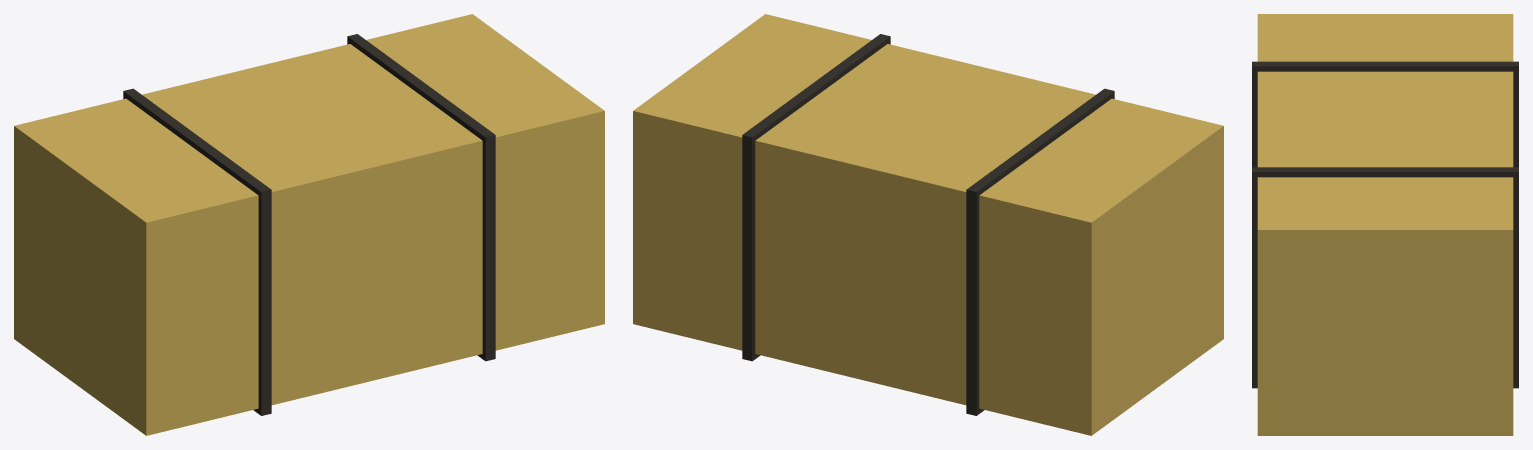
The model's file is hay bale.glb.
3 views of the same model, side by side, from view 1: azimuth 30°, elevation 25°; view 2: azimuth 150°, elevation 25°; view 3: azimuth 270°, elevation 25° (orthographic). The views are drawn at different scales.
Parts seen in each view (by area): view 1: hay bale; view 2: hay bale; view 3: hay bale.
Boxes of the visible parts, box(x1,y1,x2,y2) form: hay bale: box(14, 14, 604, 435); hay bale: box(633, 14, 1223, 435); hay bale: box(1252, 14, 1518, 435).
Size of the model in its own units: 0.9 by 0.42 by 0.47.
